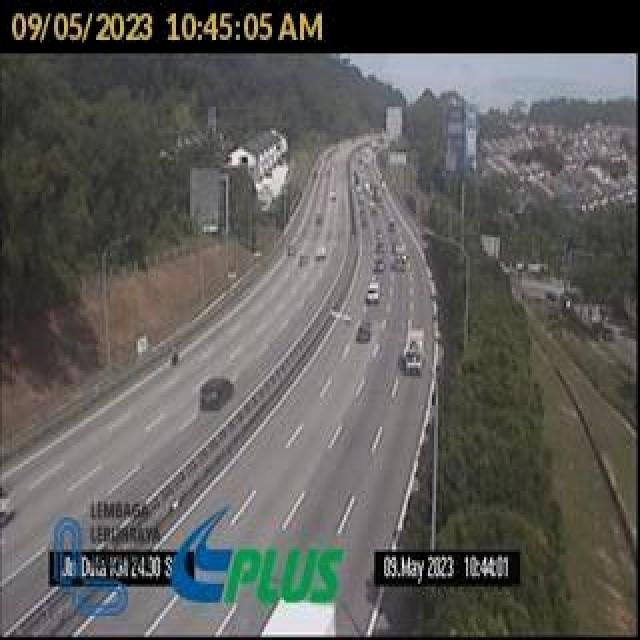Car: (198, 377, 235, 413), (372, 257, 387, 272)
Cycle: (170, 340, 183, 367)
Truck: (403, 328, 428, 377), (365, 282, 380, 304)
Van: (315, 244, 328, 264)
